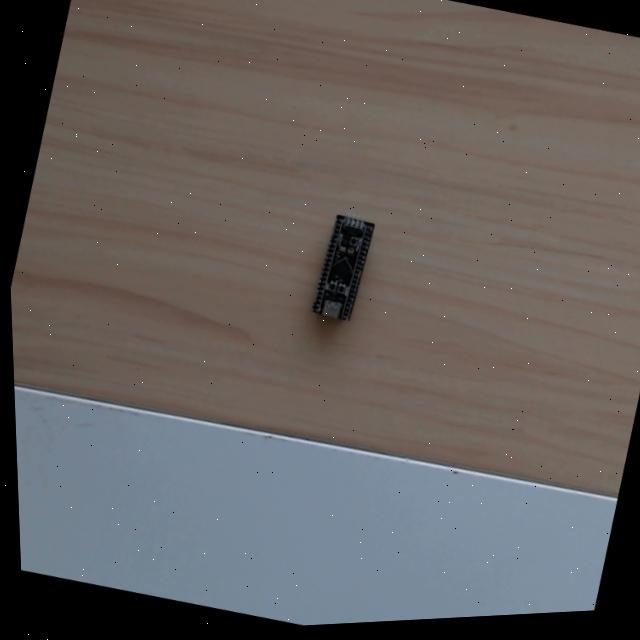STM32-Blackpill: (309, 210, 375, 321)
